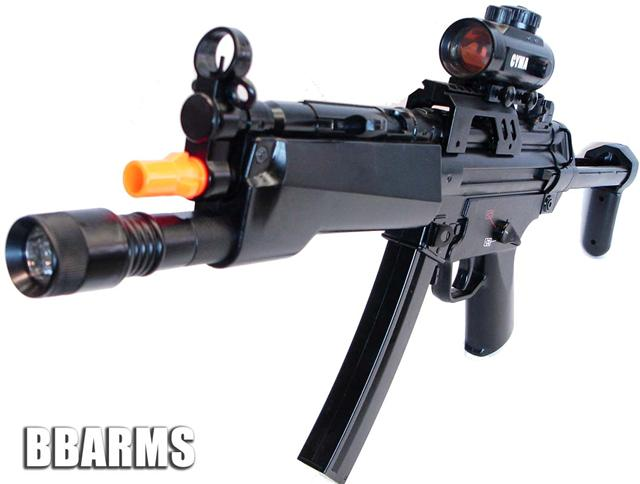rifle: (14, 14, 622, 454)
